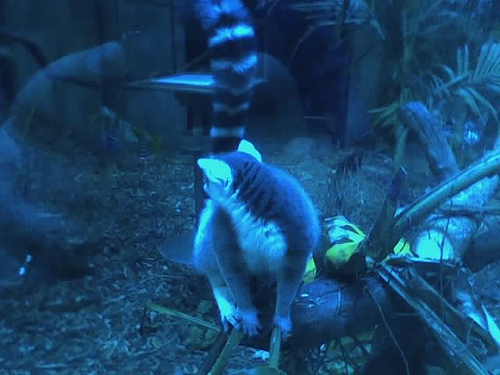cat: (190, 3, 319, 354)
